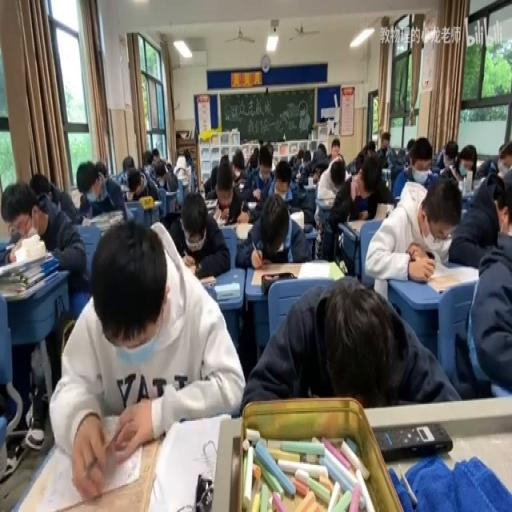calculator: (251, 259, 344, 284), (424, 263, 478, 293), (87, 208, 123, 232), (346, 216, 384, 238), (214, 282, 240, 300), (233, 222, 254, 240), (372, 202, 390, 222), (289, 209, 304, 229), (317, 191, 336, 206), (70, 186, 82, 208), (470, 176, 485, 192), (213, 205, 226, 222), (302, 181, 316, 196), (199, 276, 216, 286), (204, 196, 217, 209), (302, 220, 314, 234), (80, 215, 92, 226), (246, 199, 257, 209), (150, 198, 162, 206), (119, 184, 127, 194), (5, 242, 14, 249)
paper: (53, 215, 242, 499), (242, 276, 456, 410), (365, 173, 459, 293), (2, 176, 86, 292), (448, 171, 511, 270), (237, 186, 312, 266), (168, 188, 229, 277), (313, 155, 347, 256), (394, 137, 439, 199), (75, 158, 121, 217), (242, 145, 277, 205), (205, 149, 245, 199), (474, 141, 511, 182), (149, 156, 178, 194), (370, 164, 396, 206), (346, 141, 372, 173), (436, 139, 458, 172), (456, 145, 477, 179), (181, 148, 197, 190), (30, 174, 52, 204), (375, 132, 394, 165), (492, 182, 507, 218), (274, 164, 290, 189), (330, 136, 342, 160), (294, 166, 308, 185), (288, 150, 301, 170), (94, 159, 106, 178), (122, 154, 134, 172), (128, 179, 139, 198), (142, 151, 153, 168), (315, 142, 326, 158), (406, 136, 414, 154), (366, 138, 376, 151), (152, 148, 161, 162), (302, 150, 310, 164), (498, 142, 506, 155), (219, 154, 229, 162)
person: (374, 422, 452, 461), (194, 471, 213, 509), (237, 180, 244, 190)
